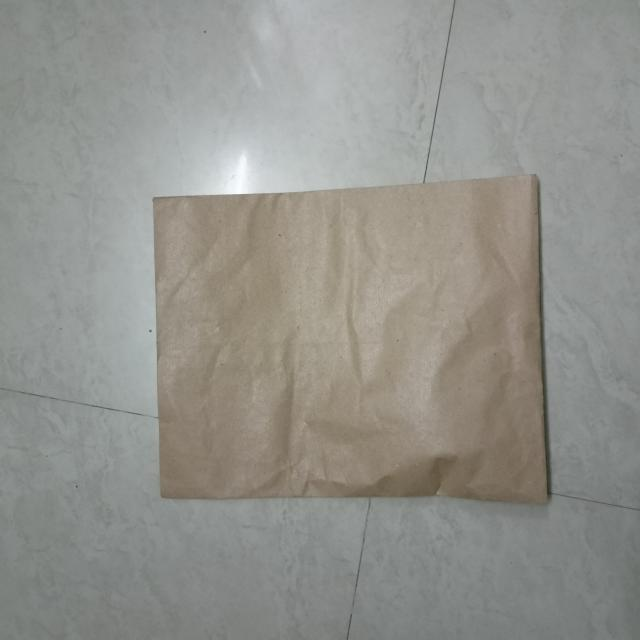box: (153, 176, 552, 508)
